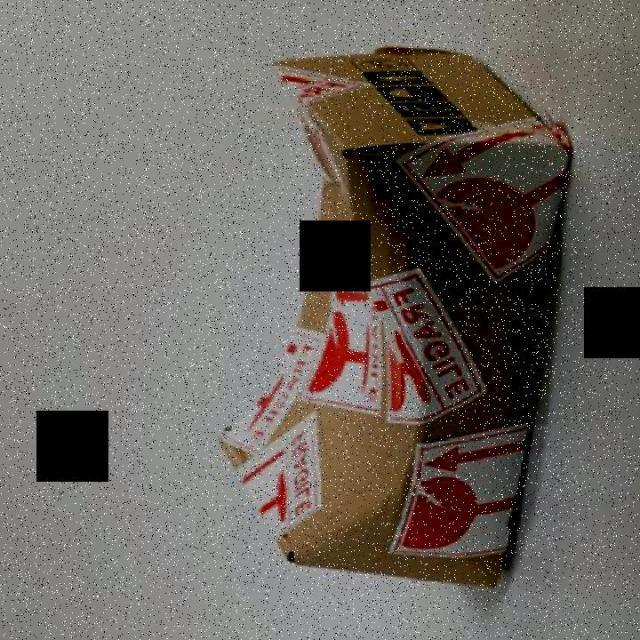box: (228, 43, 568, 594)
